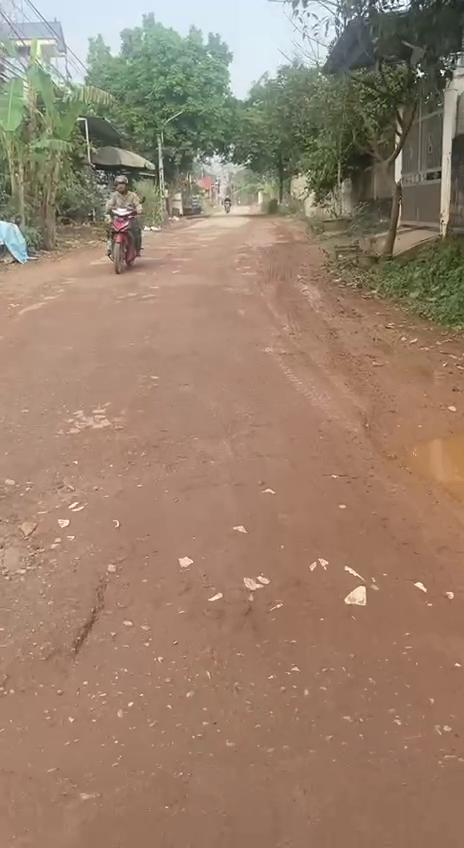pothole: (391, 424, 464, 505)
